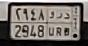2: (14, 7, 22, 38)
4: (29, 9, 38, 37)
8: (37, 7, 46, 37)
9: (22, 7, 29, 37)
D: (63, 13, 70, 36)
R: (55, 12, 63, 37)
U: (48, 10, 56, 36)
